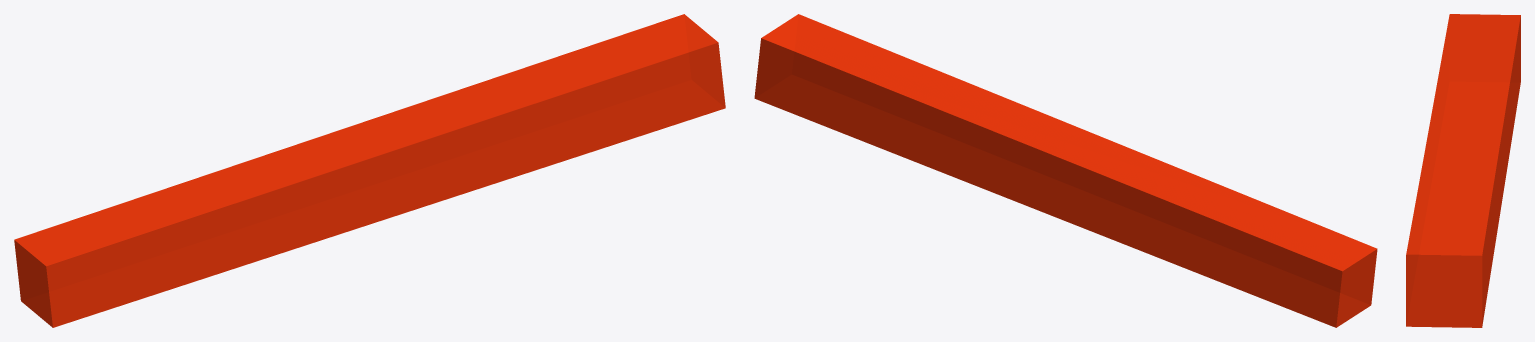
File: Event_421556567_EErechit_57.fbx
The picture shows the model from 3 angles, left to right: view 1: azimuth 30°, elevation 25°; view 2: azimuth 150°, elevation 25°; view 3: azimuth 270°, elevation 25°; orthographic projection. The views are drawn at different scales.
Visible parts, largest first — view 1: Model; view 2: Model; view 3: Model.
Part boxes in pixels (x1,y1,x2,y2): Model: (14,14,725,327); Model: (754,14,1377,327); Model: (1406,14,1520,327).
Bounding box in the file's own units: 0.7894 × 0.1646 × 0.1168.
